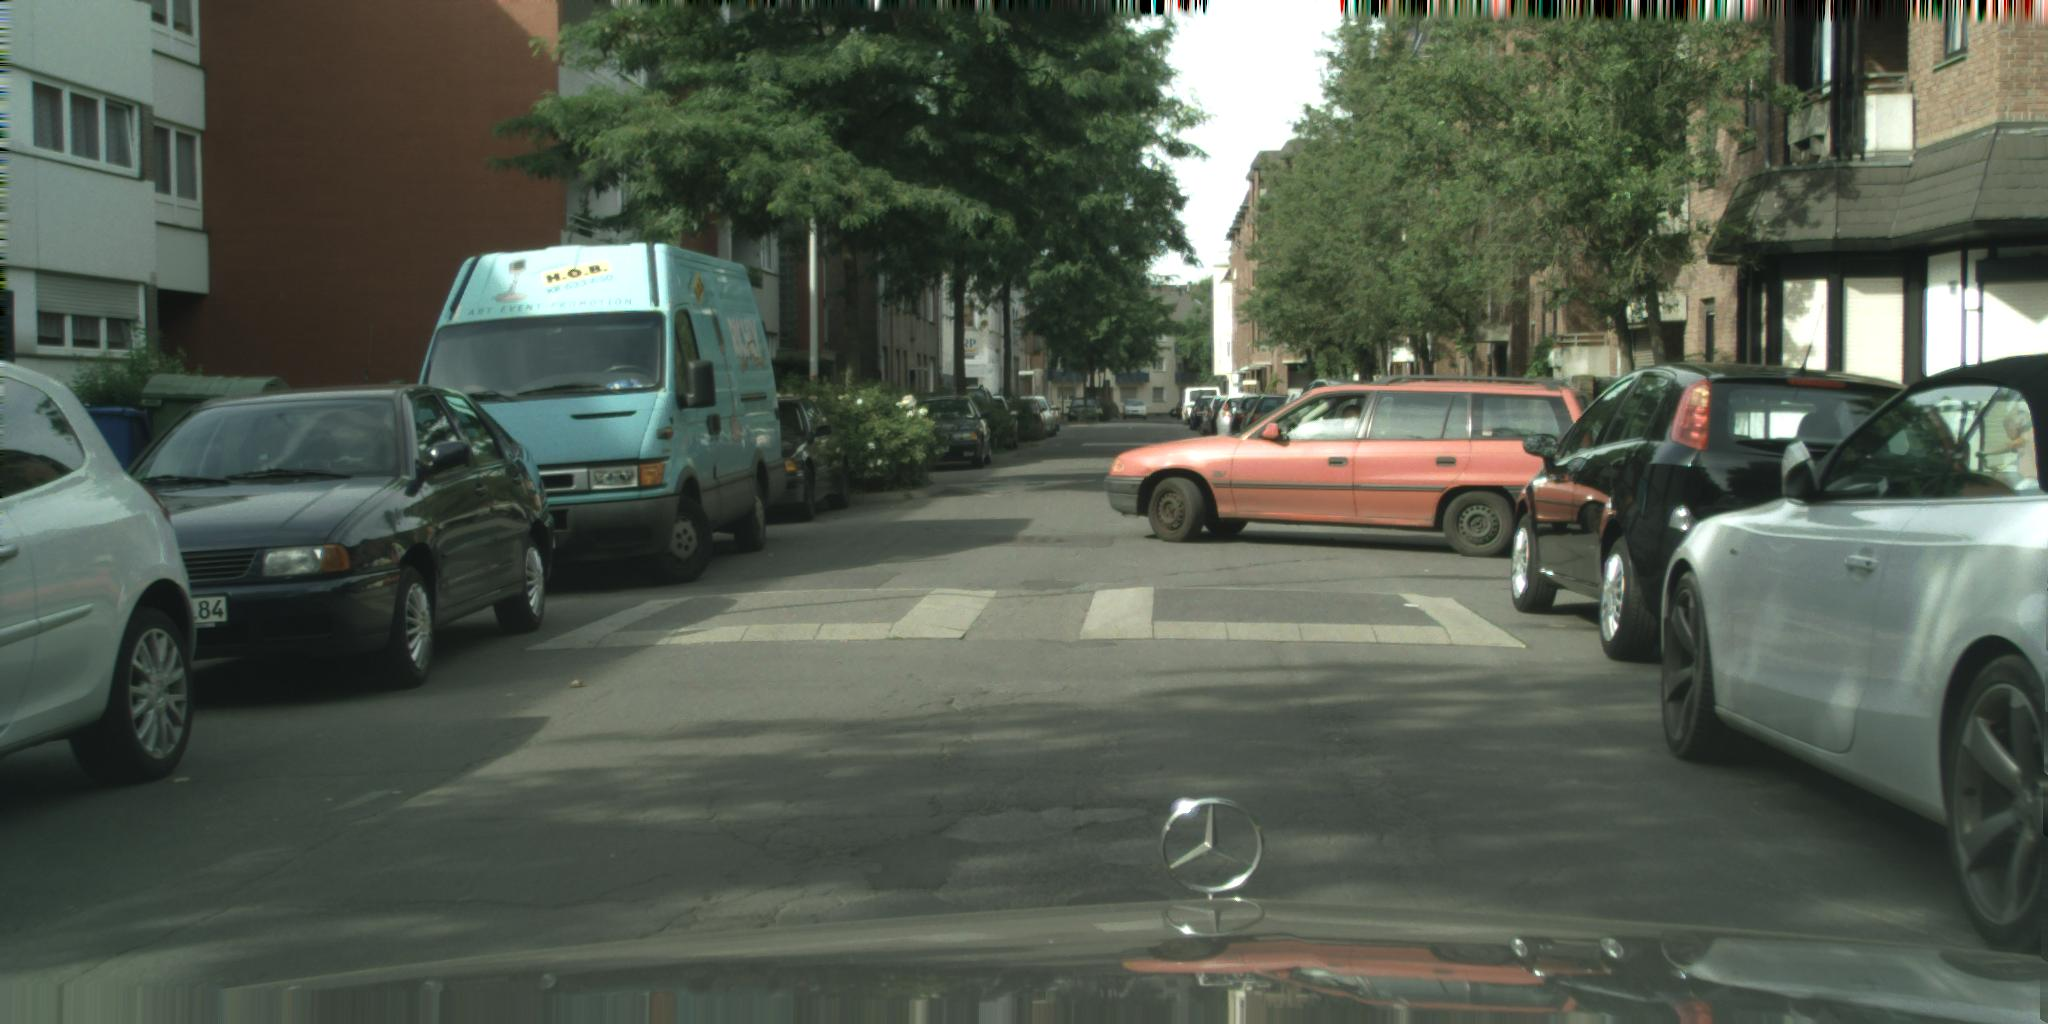car: (1657, 353, 2048, 952), (125, 384, 554, 691), (417, 242, 792, 586), (1511, 362, 1913, 662), (1106, 375, 1591, 559), (1, 360, 197, 788), (758, 394, 854, 521), (908, 396, 993, 469), (931, 383, 1000, 452), (1537, 376, 1634, 415), (1240, 393, 1309, 436), (1230, 394, 1292, 439), (1294, 379, 1401, 398), (993, 396, 1021, 452), (1217, 398, 1249, 441), (1191, 394, 1220, 431), (1199, 398, 1225, 438), (1067, 398, 1098, 423), (1211, 401, 1229, 439), (1122, 398, 1149, 421), (1110, 402, 1121, 419)
